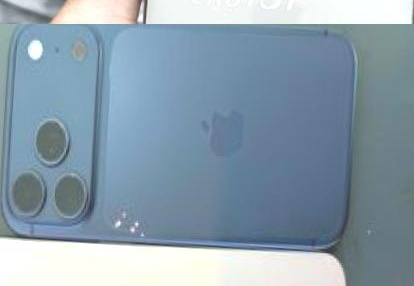scratch: (89, 180, 164, 253)
